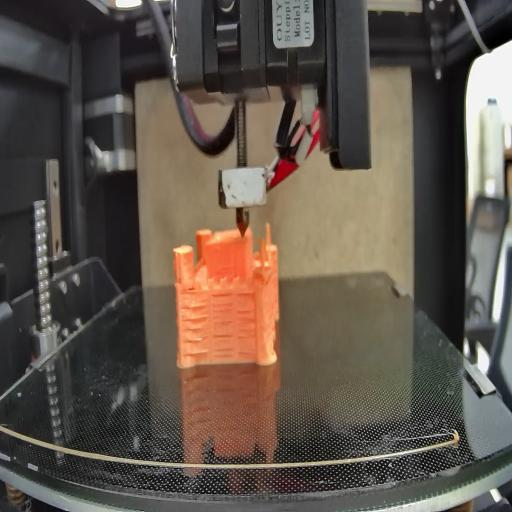cracks: (210, 290, 233, 356), (182, 304, 209, 356), (236, 310, 258, 356), (236, 288, 257, 300), (186, 280, 197, 293)
